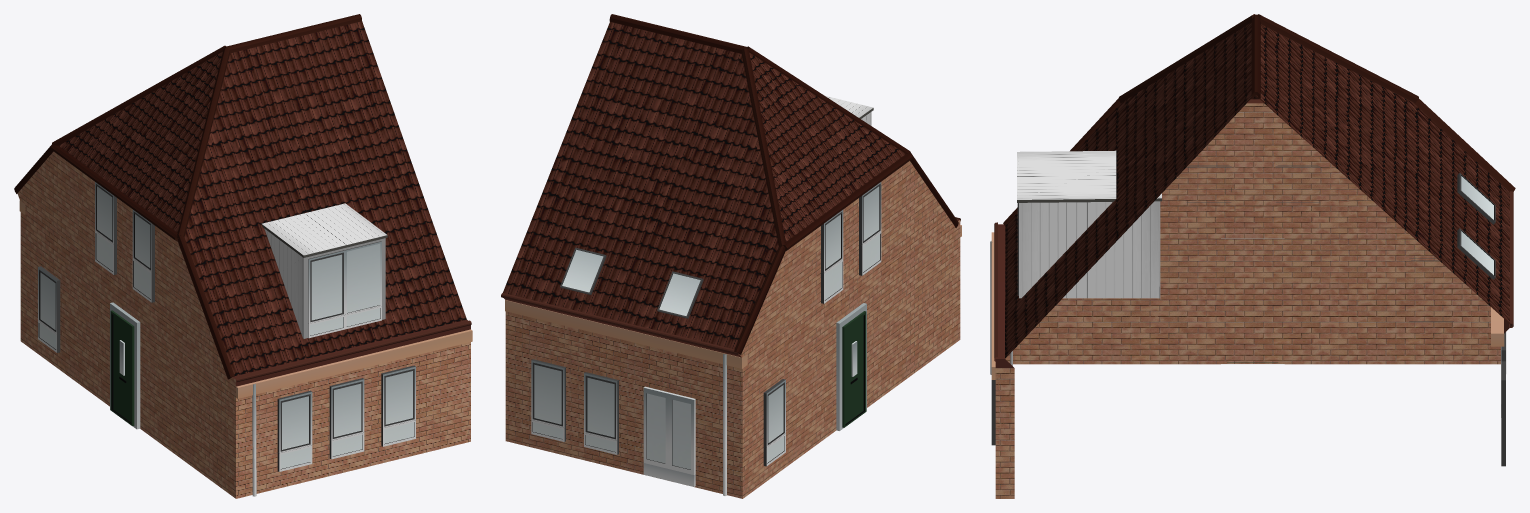
The model's file is It_Dwershus_1_13.fbx.
3 renders of one model, left to right at view 1: azimuth 30°, elevation 25°; view 2: azimuth 150°, elevation 25°; view 3: azimuth 270°, elevation 25°, orthographic. The views are drawn at different scales.
Visible parts, largest first — view 1: It_Dwershus_1_13; view 2: It_Dwershus_1_13; view 3: It_Dwershus_1_13.
Part boxes in pixels (bbox=[...]): It_Dwershus_1_13: bbox=[14, 14, 472, 498]; It_Dwershus_1_13: bbox=[501, 14, 961, 498]; It_Dwershus_1_13: bbox=[990, 14, 1515, 498].
Bounding box in the file's own units: 669 × 915 × 1070.
